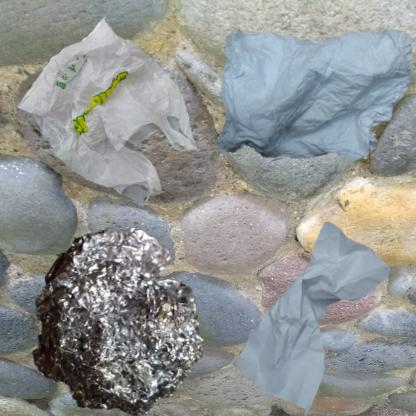aluminio: (10, 213, 222, 416)
bolsa: (10, 10, 205, 216)
papel: (213, 213, 414, 416), (213, 10, 416, 178)
